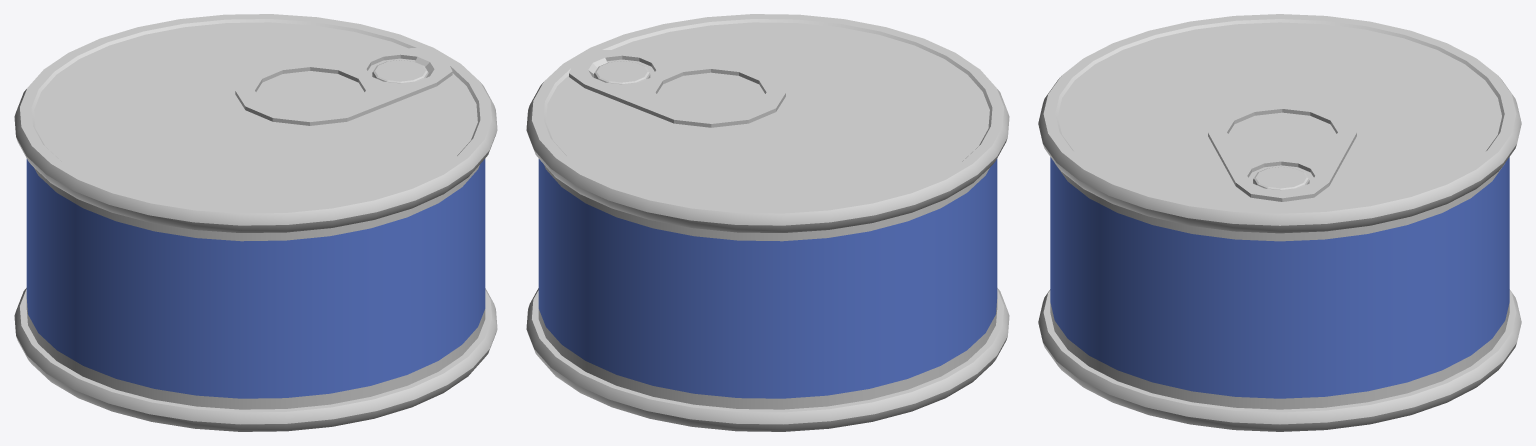
File: Bean_low.fbx
The picture shows the model from 3 angles, left to right: view 1: azimuth 30°, elevation 25°; view 2: azimuth 150°, elevation 25°; view 3: azimuth 270°, elevation 25°; orthographic projection.
Parts seen in each view (by area): view 1: Can1_low; view 2: Can1_low; view 3: Can1_low.
Boxes of the visible parts, x1=… form: Can1_low: x1=14, y1=14, x2=497, y2=431; Can1_low: x1=526, y1=14, x2=1009, y2=431; Can1_low: x1=1038, y1=14, x2=1521, y2=431.
Bounding box in the file's own units: 150 × 77.73 × 150.
